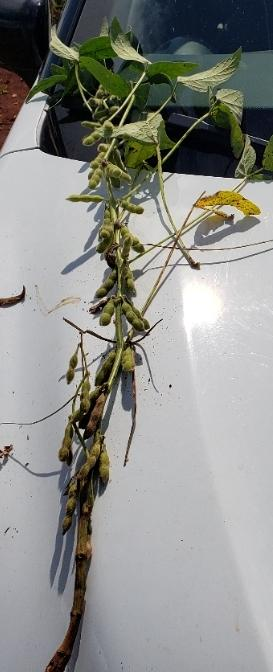soja: (117, 302, 155, 345), (127, 295, 160, 339), (58, 482, 82, 536), (52, 420, 79, 468), (90, 342, 115, 390), (78, 435, 100, 485), (122, 261, 149, 300), (98, 445, 119, 493), (87, 399, 115, 435), (61, 352, 84, 390), (92, 270, 118, 301), (89, 212, 118, 238), (120, 347, 142, 381), (70, 383, 95, 412), (116, 199, 152, 218), (85, 145, 108, 172), (119, 220, 143, 244), (100, 165, 127, 185), (91, 235, 116, 256), (85, 297, 111, 317), (85, 163, 105, 188), (82, 127, 103, 149), (96, 301, 118, 321), (80, 116, 103, 135), (121, 238, 139, 262), (100, 120, 118, 138), (129, 241, 149, 257), (108, 105, 132, 118), (65, 195, 106, 202), (98, 78, 111, 99), (96, 139, 110, 154), (88, 95, 100, 107)
